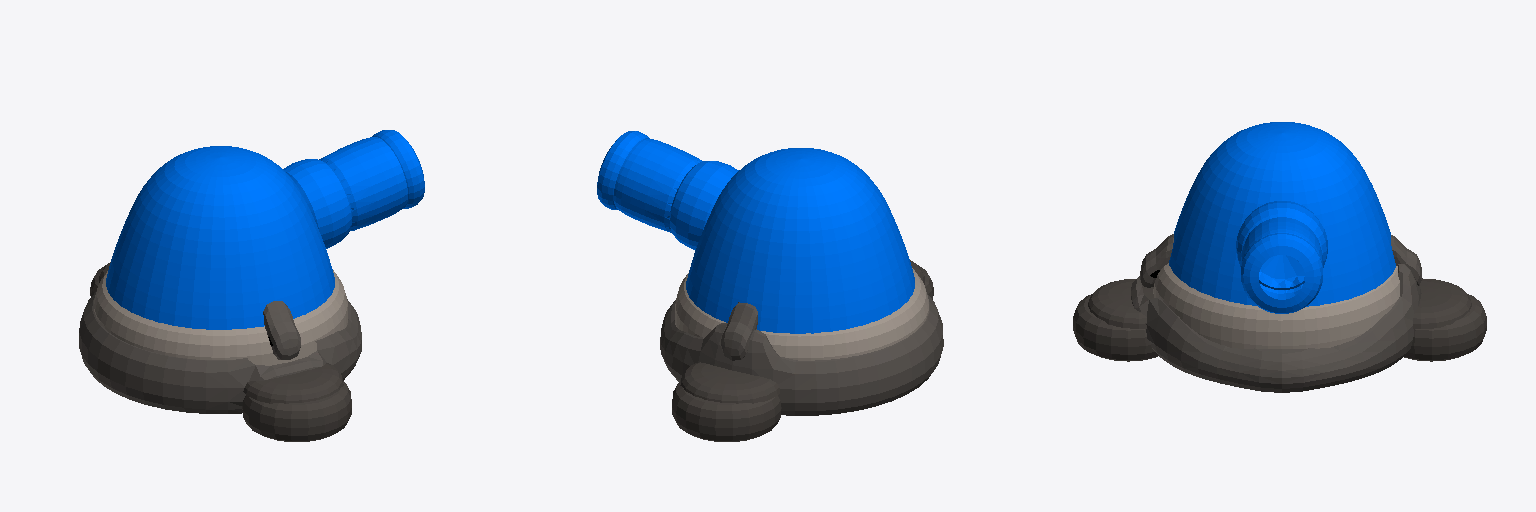
3 views of the same model, side by side, from view 1: azimuth 30°, elevation 25°; view 2: azimuth 150°, elevation 25°; view 3: azimuth 270°, elevation 25° (orthographic).
Visible parts, largest first — view 1: Barrel_Cylinder.001; view 2: Barrel_Cylinder.001; view 3: Barrel_Cylinder.001.
Part boxes in pixels (bbox=[...]): Barrel_Cylinder.001: bbox=[79, 130, 424, 441]; Barrel_Cylinder.001: bbox=[597, 131, 943, 441]; Barrel_Cylinder.001: bbox=[1073, 122, 1486, 392].
Bounding box in the file's own units: 4.34 × 2.79 × 4.94.
1 materials, 1 textured.